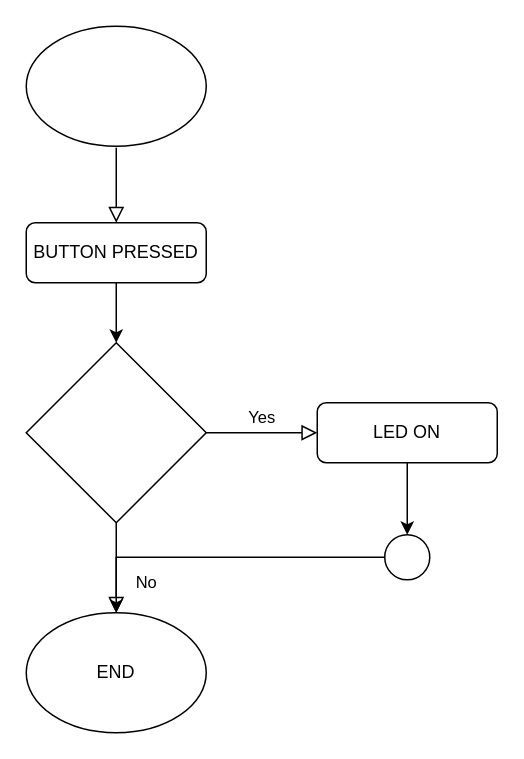
This 524x759 diagram has some shape labels left out. The shapes that lost their labels are listed below. From the top down, each one's centre as x and y in pixels, then its label:
At (x=115, y=85): "START".
At (x=115, y=432): "While BUTTON is pressed".
